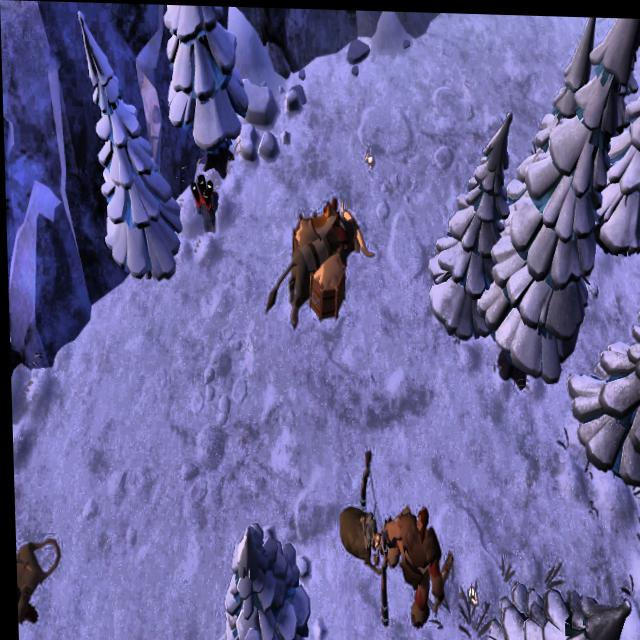enemy_factionKeeper: (379, 496, 449, 626)
ore_t5: (186, 168, 215, 211)
